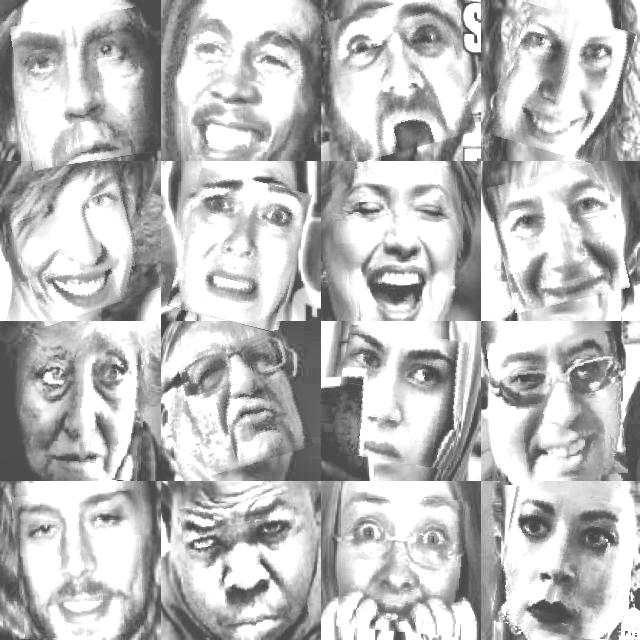angry: (15, 12, 156, 166), (497, 491, 627, 638), (334, 329, 468, 466), (183, 336, 306, 470)
fear: (328, 0, 469, 155), (175, 173, 305, 328), (339, 494, 469, 634)
happy: (11, 165, 153, 318), (494, 8, 628, 159), (180, 0, 312, 153), (490, 333, 624, 482), (13, 492, 146, 638), (333, 167, 459, 317), (494, 167, 624, 308)
neutral: (14, 336, 148, 478)
sad: (184, 496, 306, 634)
